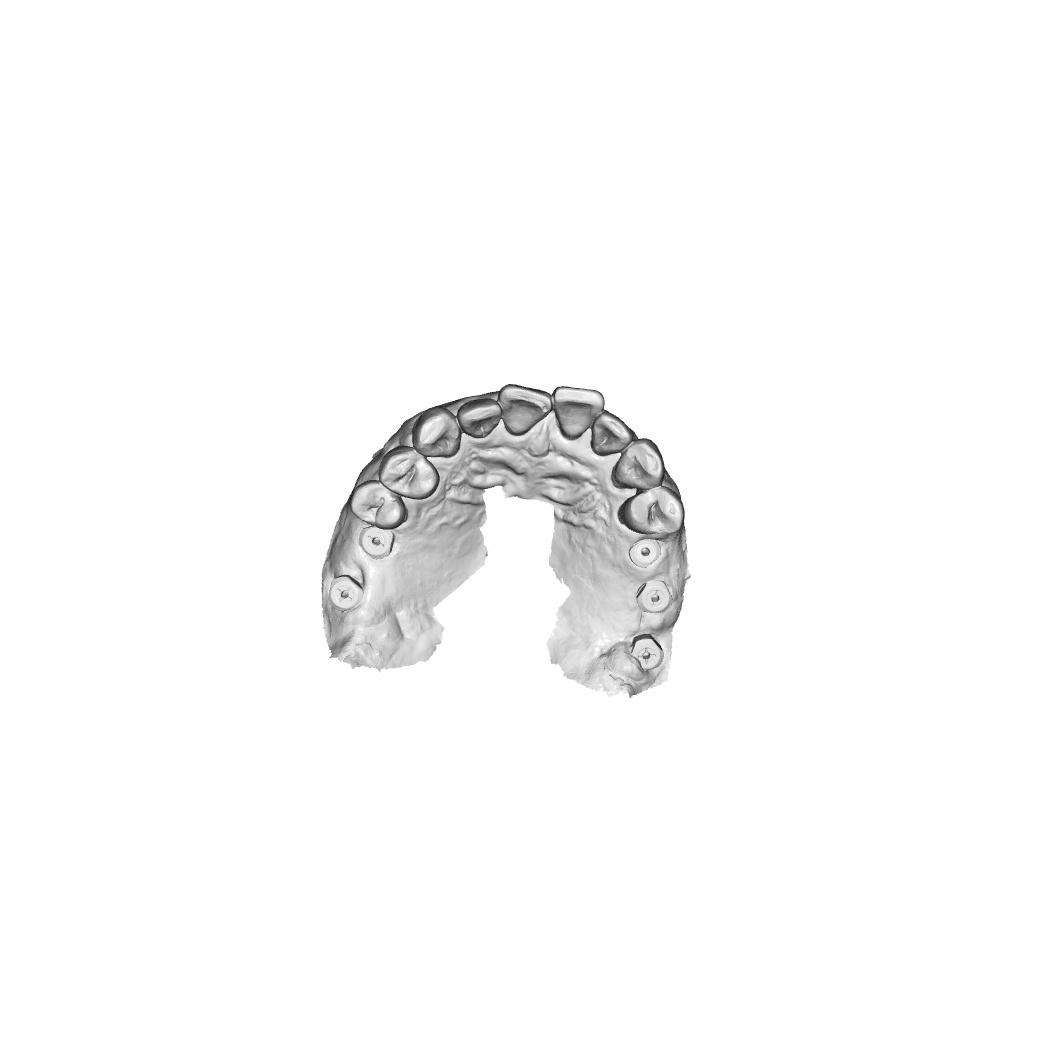canine: (411, 405, 462, 459), (589, 410, 634, 456)
implant: (628, 537, 663, 570)
implant_minus: (634, 579, 673, 615), (358, 525, 396, 561)
implant_plus: (327, 574, 365, 611), (629, 634, 665, 673)
incisor: (498, 382, 553, 437), (553, 385, 605, 441), (456, 397, 502, 440)
premolar: (377, 444, 441, 501), (620, 486, 687, 536), (348, 480, 407, 529), (613, 437, 667, 489)
